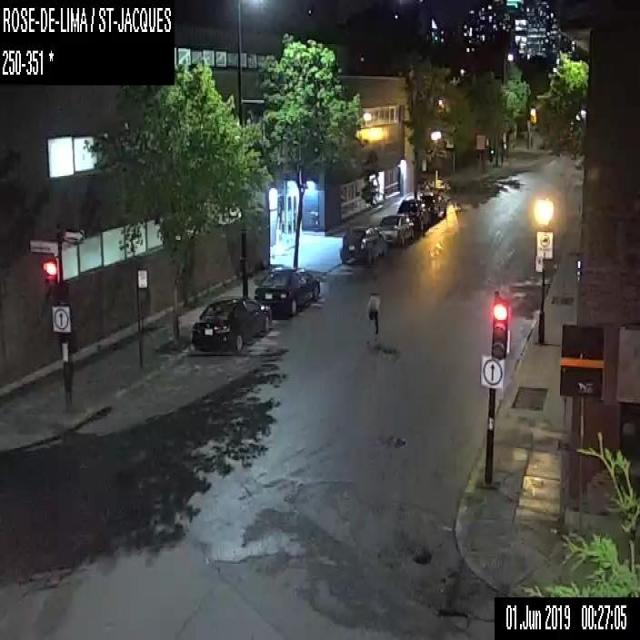cyclist: (367, 272, 381, 342)
vehicle: (190, 294, 273, 354), (255, 265, 321, 318), (339, 225, 385, 265), (376, 212, 415, 248), (397, 195, 431, 232), (420, 191, 447, 223)
